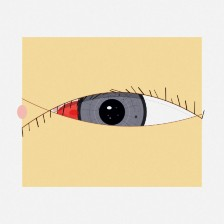hemorrhage_spot: (46, 83, 125, 146)
